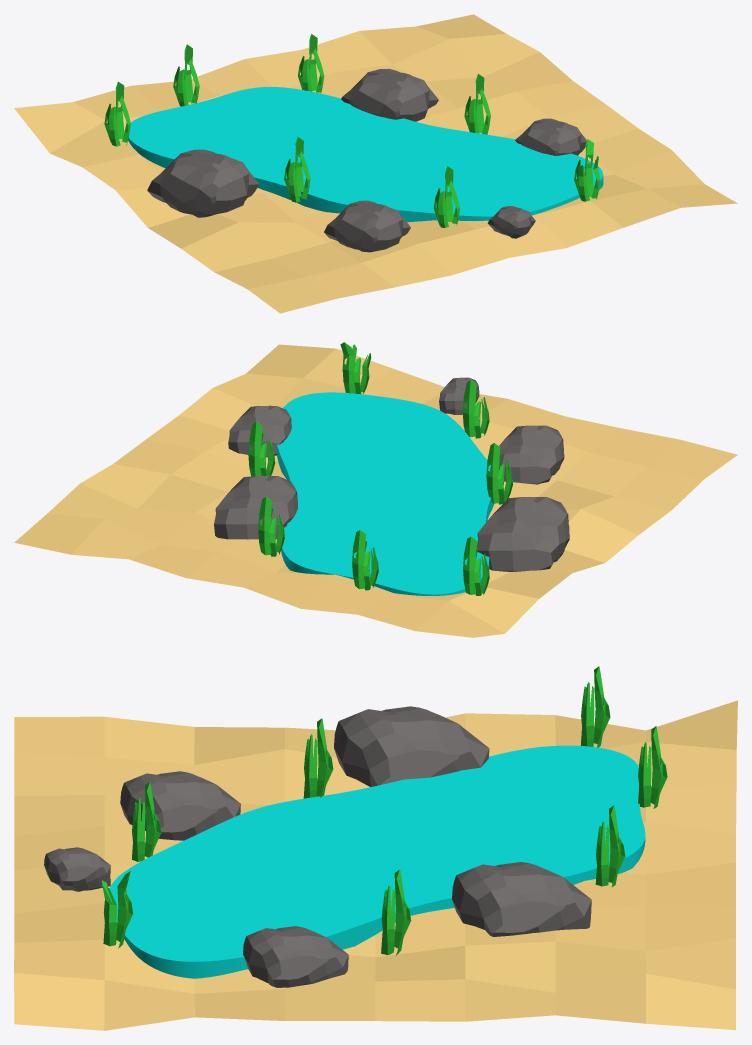
Rendered from pond.fbx.
3 views of the same model, one above another, from view 1: azimuth 30°, elevation 25°; view 2: azimuth 150°, elevation 25°; view 3: azimuth 270°, elevation 25° (orthographic). The views are drawn at different scales.
Visible parts, largest first — view 1: Plane.001, ponk, Plane; view 2: Plane.001, ponk, Plane; view 3: Plane.001, ponk, Plane.
Boxes of the visible parts, left/top/right/bottom form: Plane.001: left=14, top=14, right=737, bottom=313; ponk: left=128, top=87, right=603, bottom=222; Plane: left=104, top=34, right=600, bottom=252; Plane.001: left=14, top=344, right=737, bottom=637; ponk: left=277, top=392, right=493, bottom=595; Plane: left=214, top=342, right=569, bottom=595; Plane.001: left=14, top=700, right=737, bottom=1030; ponk: left=110, top=745, right=645, bottom=978; Plane: left=44, top=666, right=667, bottom=987.
Bounding box in the file's own units: 336 × 66.94 × 336.
